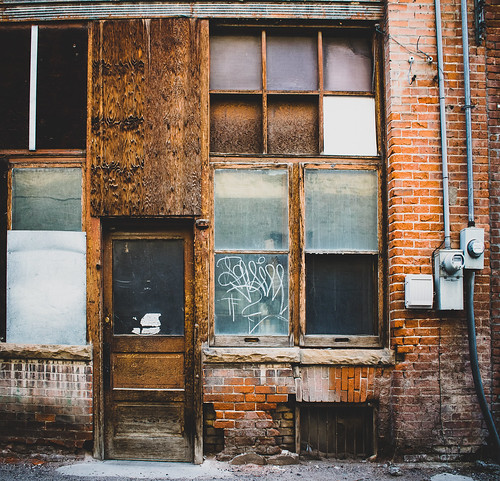door: (92, 215, 202, 459)
graffiti: (212, 247, 294, 336)
window: (215, 160, 386, 355), (6, 157, 88, 350)
